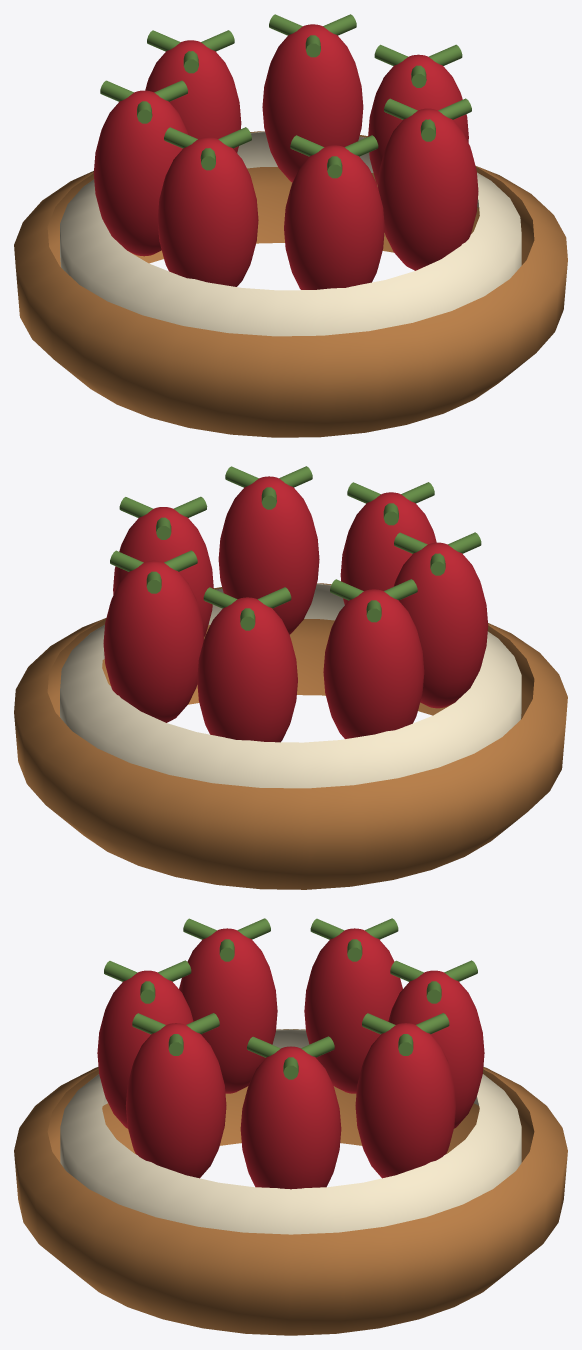
File: sku_v24_fruit_tart.glb
The picture shows the model from 3 angles, top to bottom: view 1: azimuth 30°, elevation 25°; view 2: azimuth 150°, elevation 25°; view 3: azimuth 270°, elevation 25°; orthographic projection.
Parts seen in each view (by area): view 1: sku_v24_fruit_tart_V24_strawberry, sku_v24_fruit_tart_V24_golden_crust, sku_v24_fruit_tart_V24_cream, sku_v24_fruit_tart_V24_leaf; view 2: sku_v24_fruit_tart_V24_strawberry, sku_v24_fruit_tart_V24_golden_crust, sku_v24_fruit_tart_V24_cream, sku_v24_fruit_tart_V24_leaf; view 3: sku_v24_fruit_tart_V24_strawberry, sku_v24_fruit_tart_V24_golden_crust, sku_v24_fruit_tart_V24_cream, sku_v24_fruit_tart_V24_leaf.
Boxes of the visible parts, <box> form: sku_v24_fruit_tart_V24_strawberry: <box>93,24,478,289</box>; sku_v24_fruit_tart_V24_golden_crust: <box>14,131,567,437</box>; sku_v24_fruit_tart_V24_cream: <box>60,131,521,336</box>; sku_v24_fruit_tart_V24_leaf: <box>100,14,471,178</box>; sku_v24_fruit_tart_V24_strawberry: <box>103,476,488,742</box>; sku_v24_fruit_tart_V24_golden_crust: <box>14,583,567,889</box>; sku_v24_fruit_tart_V24_cream: <box>60,583,521,788</box>; sku_v24_fruit_tart_V24_leaf: <box>110,466,481,630</box>; sku_v24_fruit_tart_V24_strawberry: <box>97,928,484,1189</box>; sku_v24_fruit_tart_V24_golden_crust: <box>14,1029,567,1335</box>; sku_v24_fruit_tart_V24_cream: <box>60,1029,521,1234</box>; sku_v24_fruit_tart_V24_leaf: <box>104,918,477,1079</box>.
Size of the model in its own units: 0.132 by 0.0667 by 0.132.
